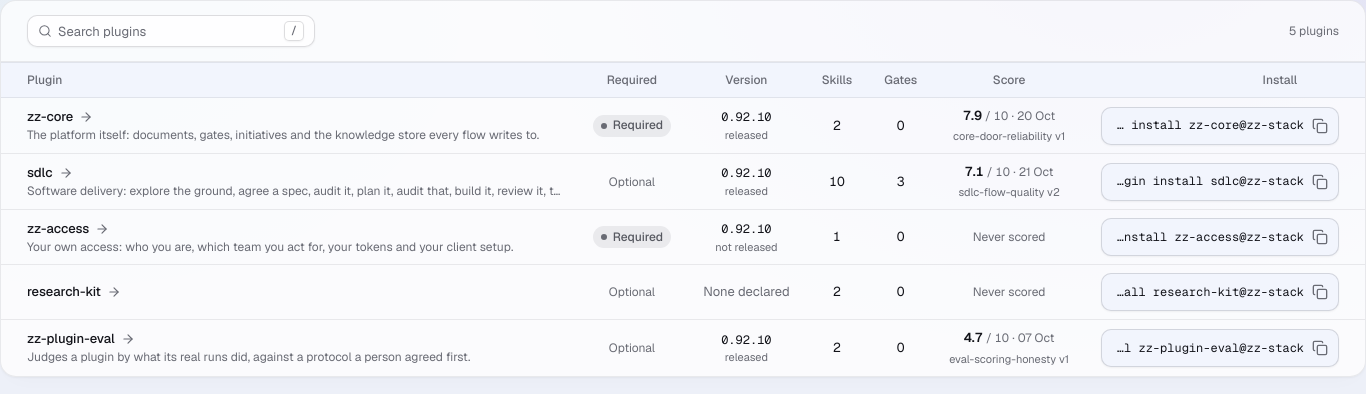
Test: Plugins, the list › copies the command itself, and says so only once the clipboard took it
Click the button named "Copy the command that installs sdlc".
click(1320, 182)  # box [1304,166,1336,198]
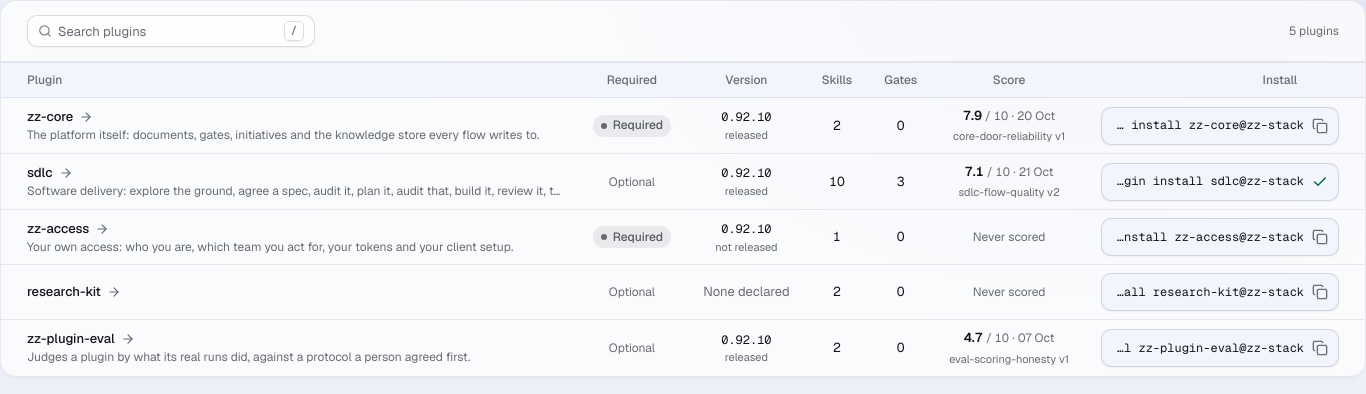
expect the button named "Copied" is shown: met, box [1304,166,1336,198]
